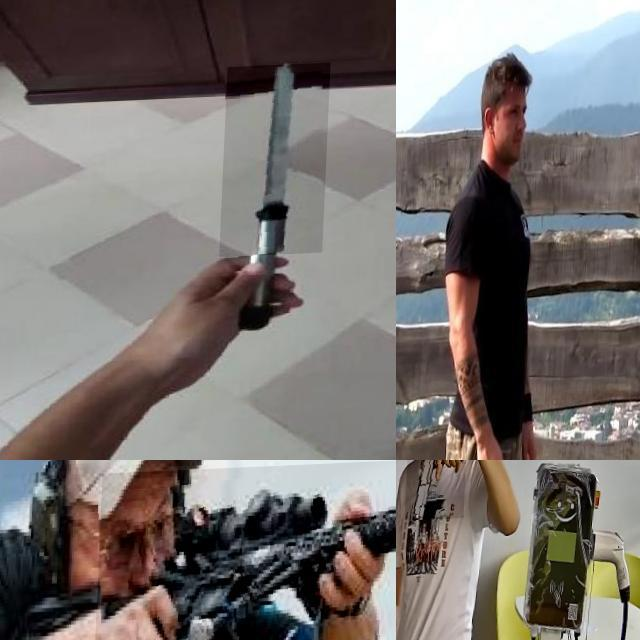-: (223, 66, 333, 259)
gun-knife-thesis - v11 Yolov5 augmented: (96, 461, 396, 640), (407, 460, 470, 523)
